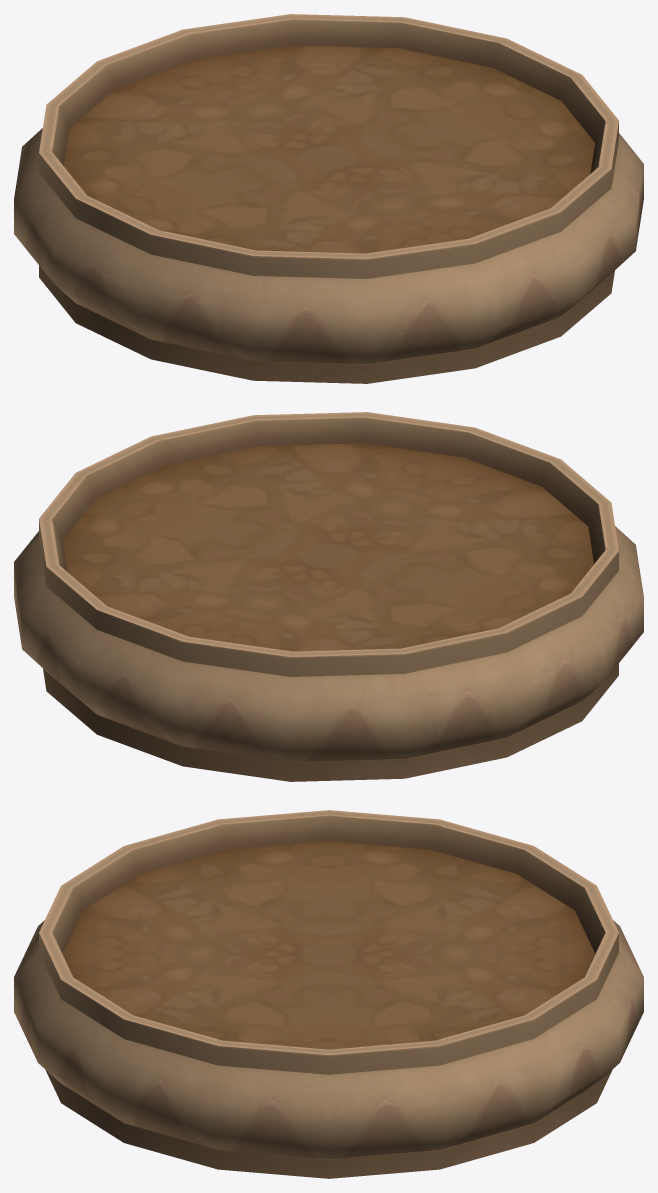
File: Clumb_1.FBX
The picture shows the model from 3 angles, top to bottom: view 1: azimuth 30°, elevation 25°; view 2: azimuth 150°, elevation 25°; view 3: azimuth 270°, elevation 25°; orthographic projection.
Visible parts, largest first — view 1: Clumb_1; view 2: Clumb_1; view 3: Clumb_1.
Part boxes in pixels (left/top/right/bottom): Clumb_1: left=14, top=14, right=643, bottom=383; Clumb_1: left=14, top=412, right=643, bottom=781; Clumb_1: left=14, top=810, right=643, bottom=1178.
Size of the model in its own units: 217 by 47.07 by 217.
